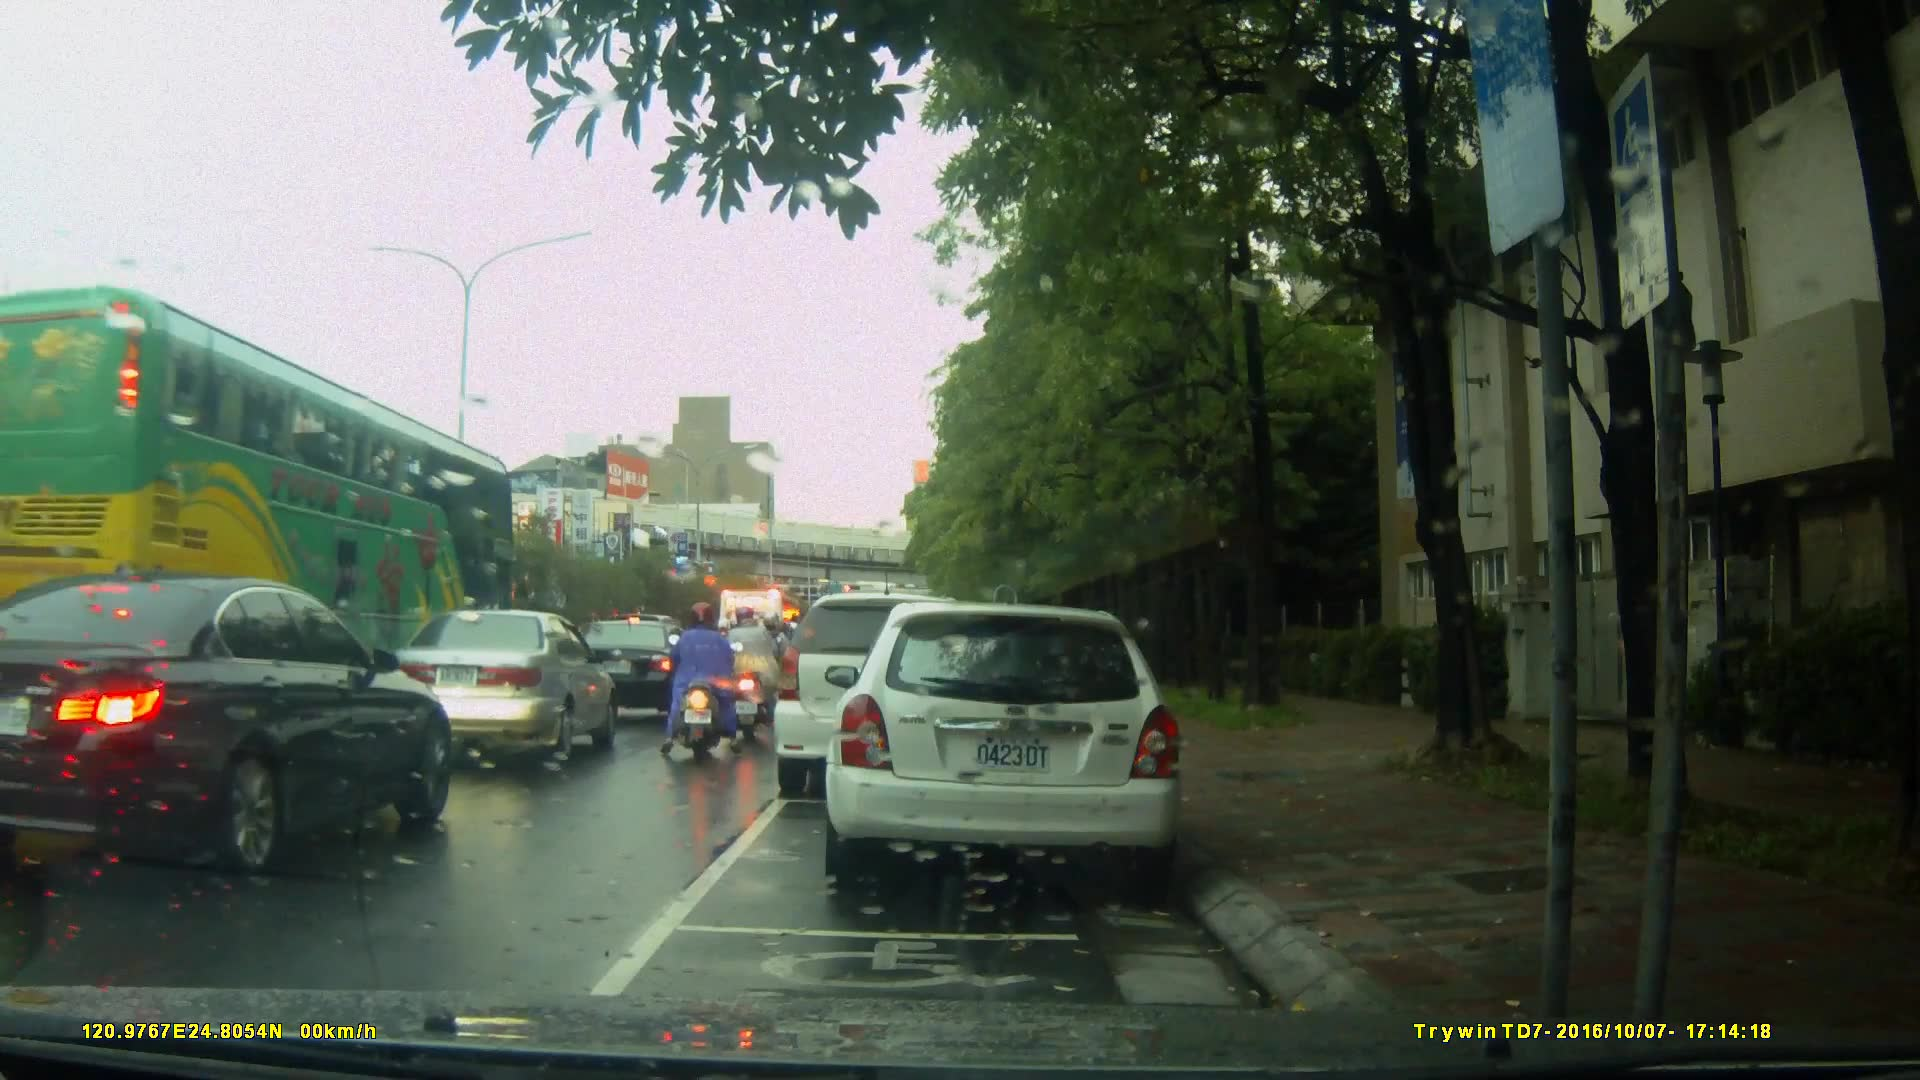rider: (664, 605, 731, 761), (734, 603, 788, 729)
vehicle: (1, 280, 521, 655), (9, 574, 455, 889), (831, 592, 1196, 897), (770, 592, 999, 798), (381, 610, 619, 772), (564, 619, 688, 723), (718, 585, 802, 706)
